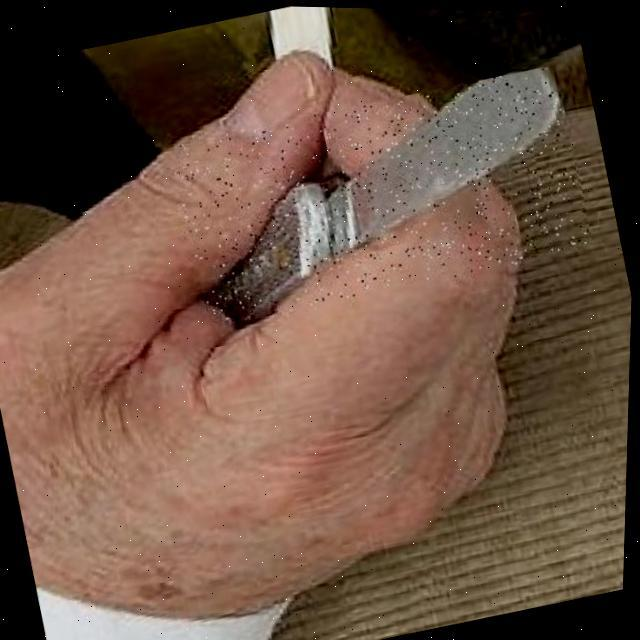knife: (166, 53, 597, 332)
